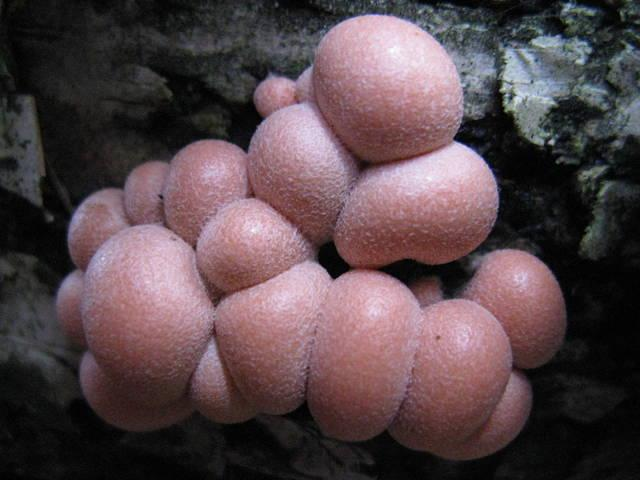Non-edible Mushroom: (55, 12, 568, 461), (78, 223, 214, 400), (311, 12, 465, 163), (332, 139, 500, 267)
